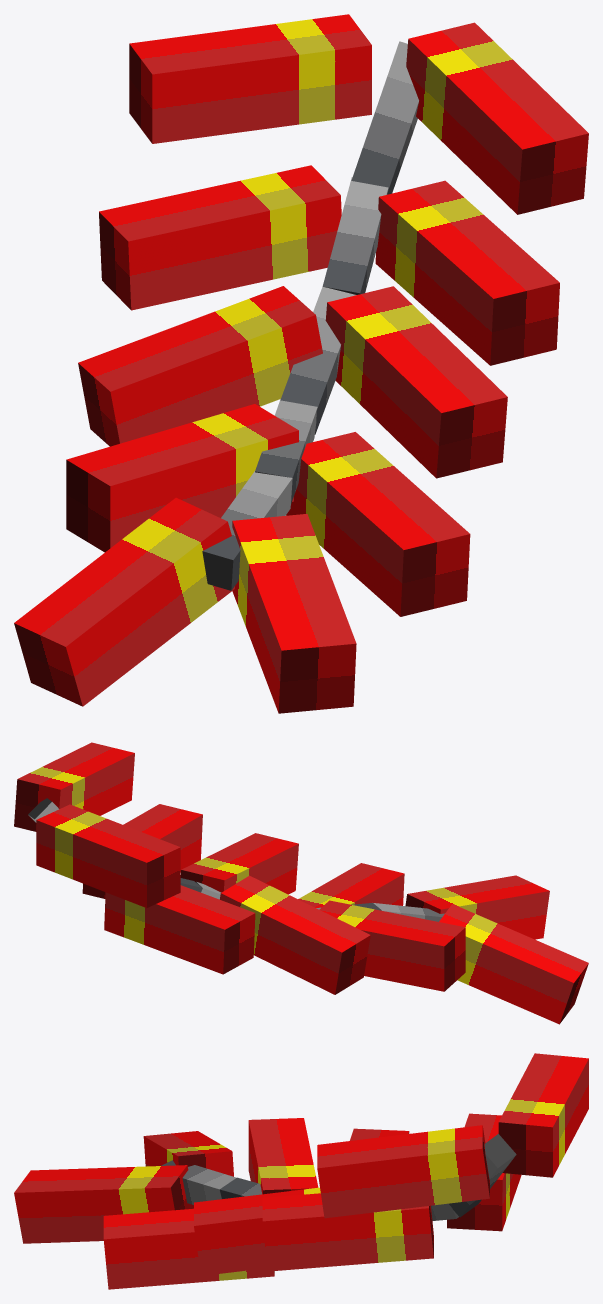
The model's file is firecracker.gltf.
The picture shows the model from 3 angles, top to bottom: view 1: azimuth 30°, elevation 25°; view 2: azimuth 150°, elevation 25°; view 3: azimuth 270°, elevation 25°; orthographic projection. The views are drawn at different scales.
Visible parts, largest first — view 1: cube (×15); view 2: cube (×11); view 3: cube (×14).
Part boxes in pixels (bbox=[...]): cube (×15): bbox=[14, 14, 588, 713]; cube (×11): bbox=[14, 742, 588, 1024]; cube (×14): bbox=[14, 1053, 588, 1289].
Size of the model in its own units: 1.24 by 0.6514 by 1.29.
1 material, 1 textured.
